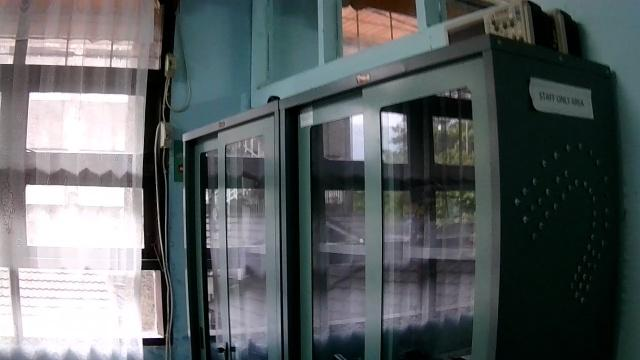Lemari: (277, 30, 621, 359), (180, 97, 281, 359)
